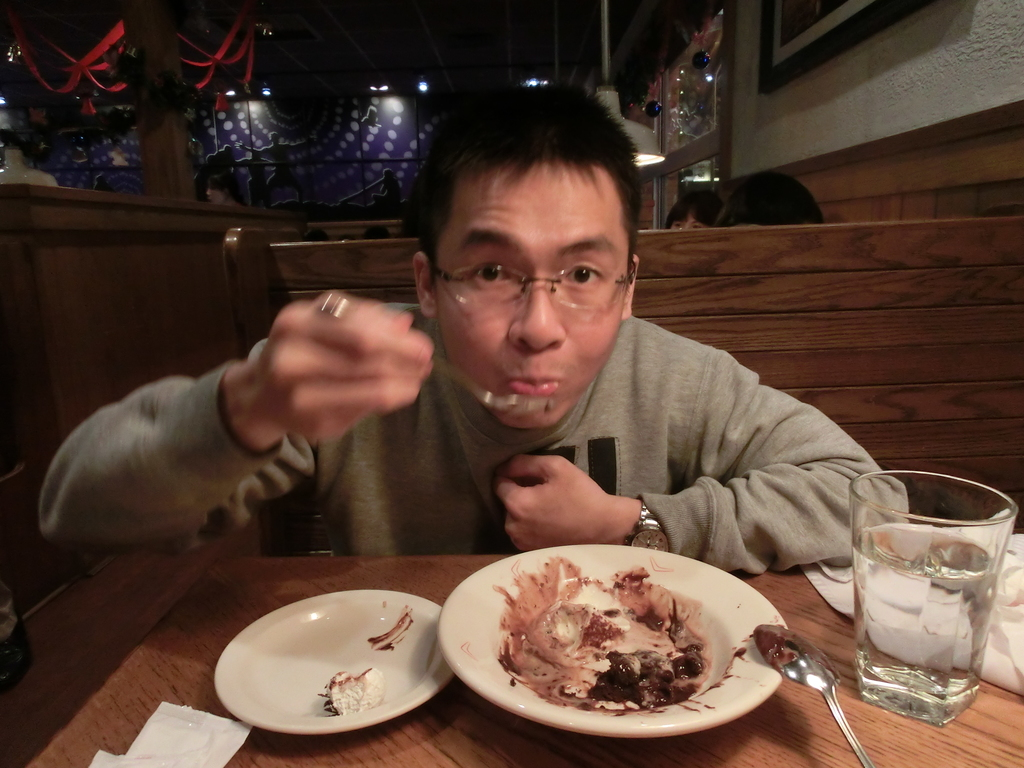plate: (211, 579, 444, 739)
